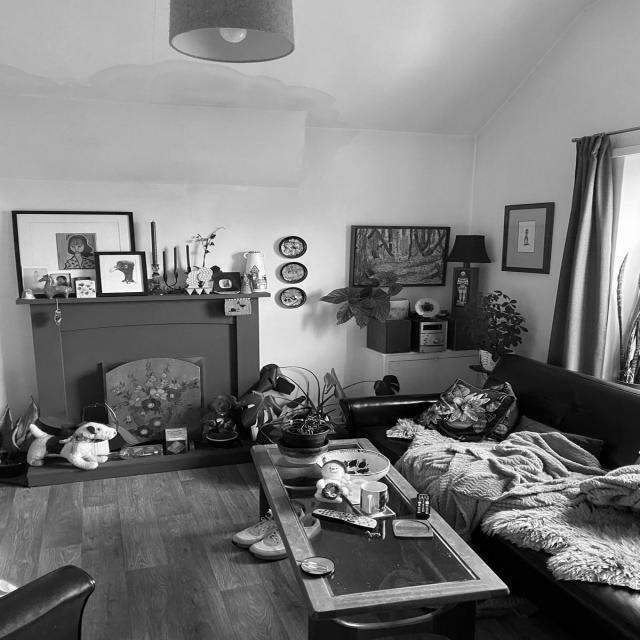stain marks: (0, 54, 363, 196)
